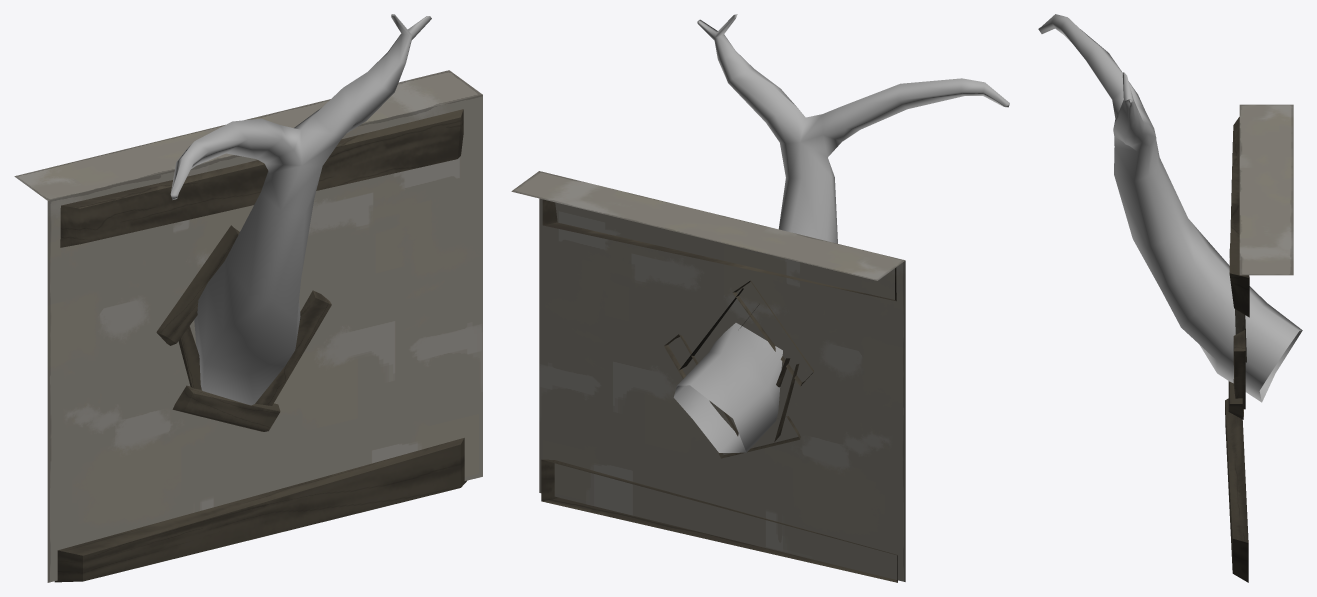
The model's file is childRoom_wall_tree.fbx.
The picture shows the model from 3 angles, left to right: view 1: azimuth 30°, elevation 25°; view 2: azimuth 150°, elevation 25°; view 3: azimuth 270°, elevation 25°; orthographic projection. The views are drawn at different scales.
Parts seen in each view (by area): view 1: wall_outerTree01; view 2: wall_outerTree01; view 3: wall_outerTree01.
Boxes of the visible parts, left/top/right/bottom form: wall_outerTree01: left=14, top=14, right=482, bottom=582; wall_outerTree01: left=511, top=14, right=1009, bottom=582; wall_outerTree01: left=1038, top=14, right=1302, bottom=582.
Bounding box in the file's own units: 300 × 369 × 196.
